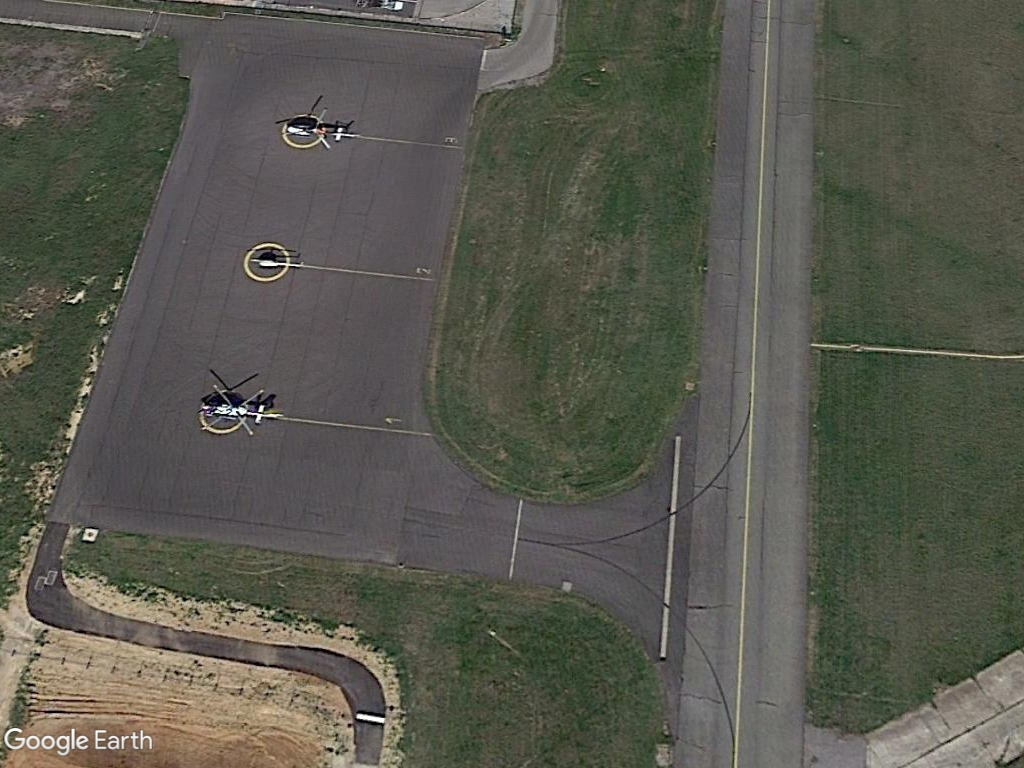helicopter: (193, 376, 290, 438), (277, 105, 359, 154), (241, 239, 308, 275)
